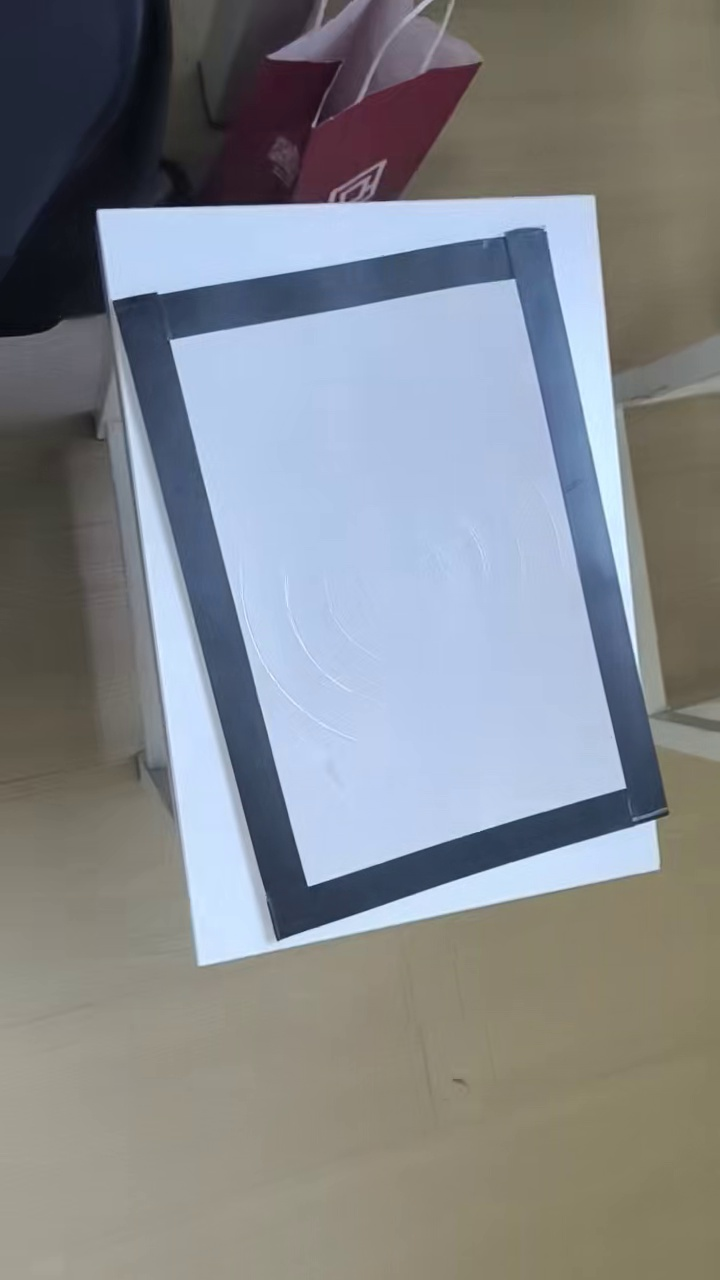board: (114, 229, 664, 932)
